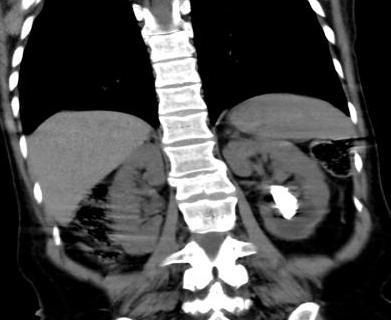Tas_Var: (265, 181, 305, 221)
